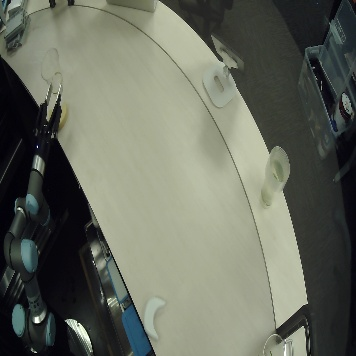empty_cup: (259, 141, 291, 210), (37, 45, 67, 97), (254, 329, 299, 355)
puck: (142, 296, 169, 343), (42, 102, 71, 128)
